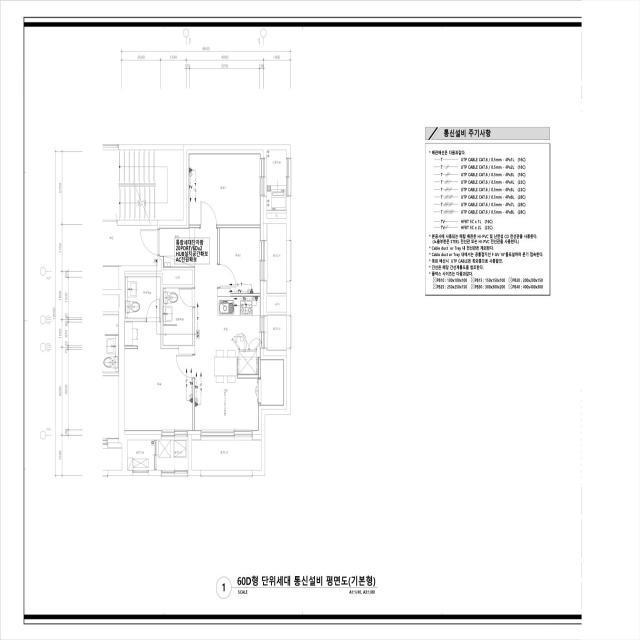space_balconi: (192, 437, 261, 470), (265, 224, 286, 294), (157, 437, 188, 470), (265, 315, 286, 351)
space_bedroom: (125, 322, 193, 434), (187, 150, 263, 228), (220, 228, 263, 296)
space_elevator_hall: (103, 225, 158, 266)
space_front: (160, 225, 195, 267)
space_kitchen: (217, 296, 263, 378)
space_living_room: (193, 228, 261, 435)
space_multipurpose_space: (267, 150, 286, 210)
space_other: (259, 356, 286, 409), (156, 268, 193, 285), (267, 296, 286, 312), (267, 213, 286, 218)
space_outdoor_room: (128, 440, 154, 470)
space_staircase: (102, 150, 183, 220)
space_toilet: (163, 287, 193, 346), (125, 276, 161, 319)
